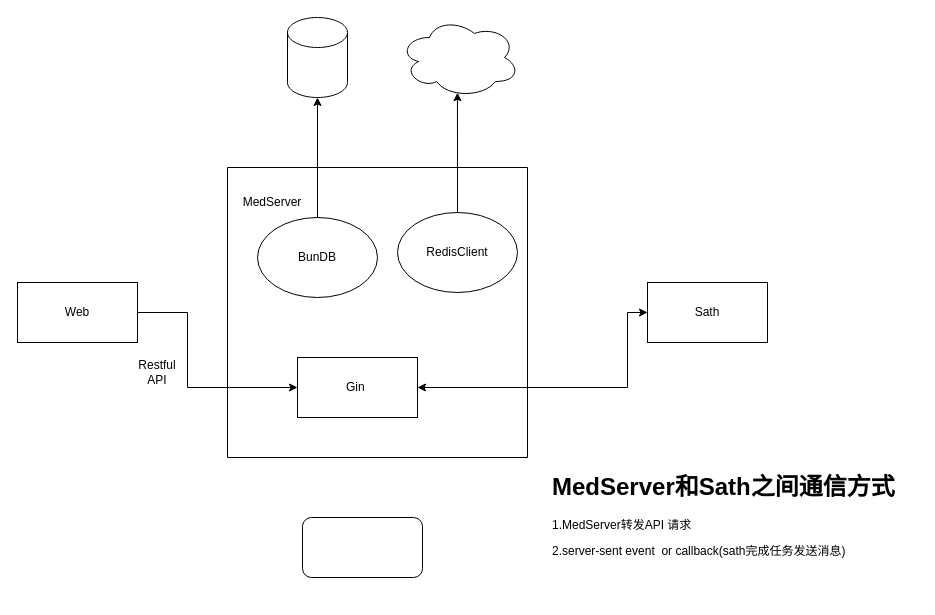
The diagram is 935 pixels wide and 615 high, and some of its shapes have lost their labels. The shapes that lost their labels are listed below. From the top down, each one's box as (x1, y1, x2, y2) in pixels, then its label:
(286, 16, 348, 98): Postgresql
(398, 16, 520, 98): Redis
(302, 516, 422, 578): 分子库页面，查询数据后返回
